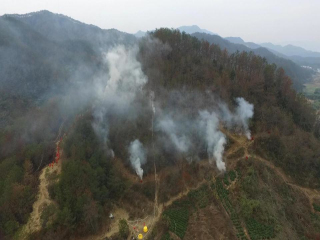smoke: (91, 38, 256, 176)
